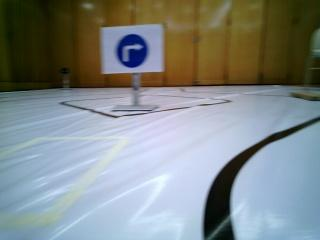right: (105, 29, 165, 71)
